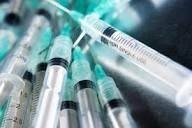Syringe: (47, 0, 191, 106), (0, 10, 49, 105), (32, 27, 71, 127), (95, 65, 137, 128), (71, 47, 103, 127), (1, 80, 26, 127), (27, 26, 52, 72), (29, 62, 46, 125), (59, 78, 78, 127), (21, 71, 32, 127), (4, 0, 25, 24), (0, 29, 15, 61), (0, 100, 8, 125), (0, 0, 8, 22)
